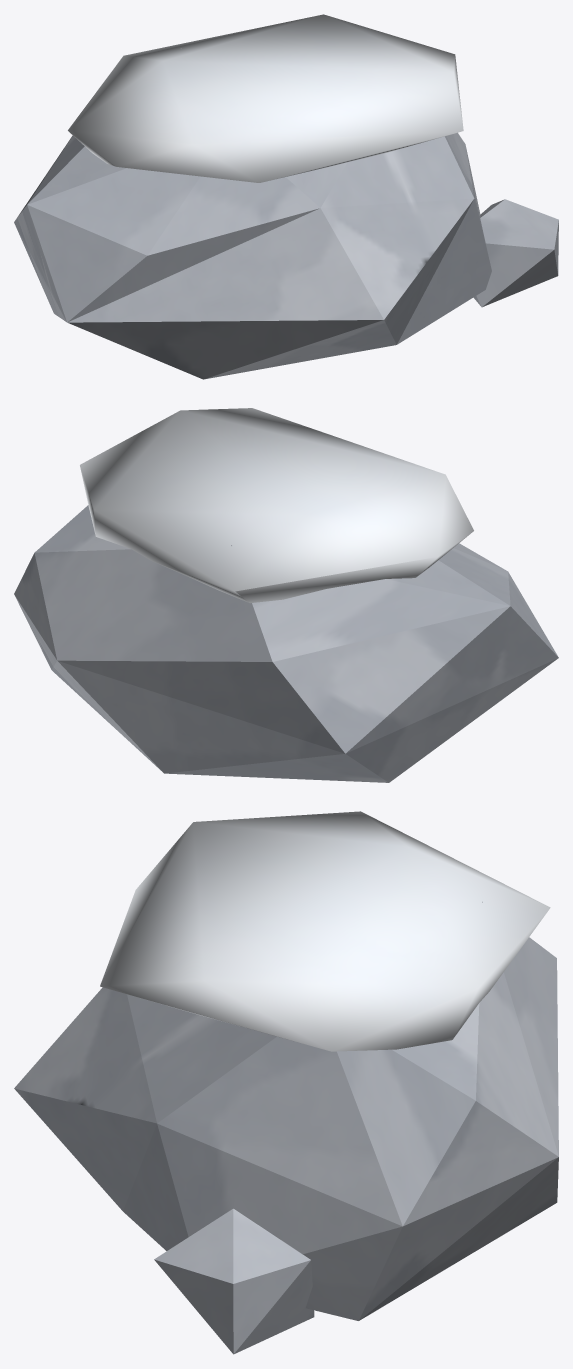
Rendered from snow_rock_lod1.gltf.
3 renders of one model, top to bottom at view 1: azimuth 30°, elevation 25°; view 2: azimuth 150°, elevation 25°; view 3: azimuth 270°, elevation 25°, orthographic. The views are drawn at different scales.
Visible parts, largest first — view 1: snow_rock_LOD1; view 2: snow_rock_LOD1; view 3: snow_rock_LOD1.
Part boxes in pixels (<box>): snow_rock_LOD1: <box>14,14,558,379</box>; snow_rock_LOD1: <box>14,408,558,782</box>; snow_rock_LOD1: <box>14,811,558,1354</box>.
Bounding box in the file's own units: 1.7 × 0.8033 × 1.27.
1 material, 1 textured.
